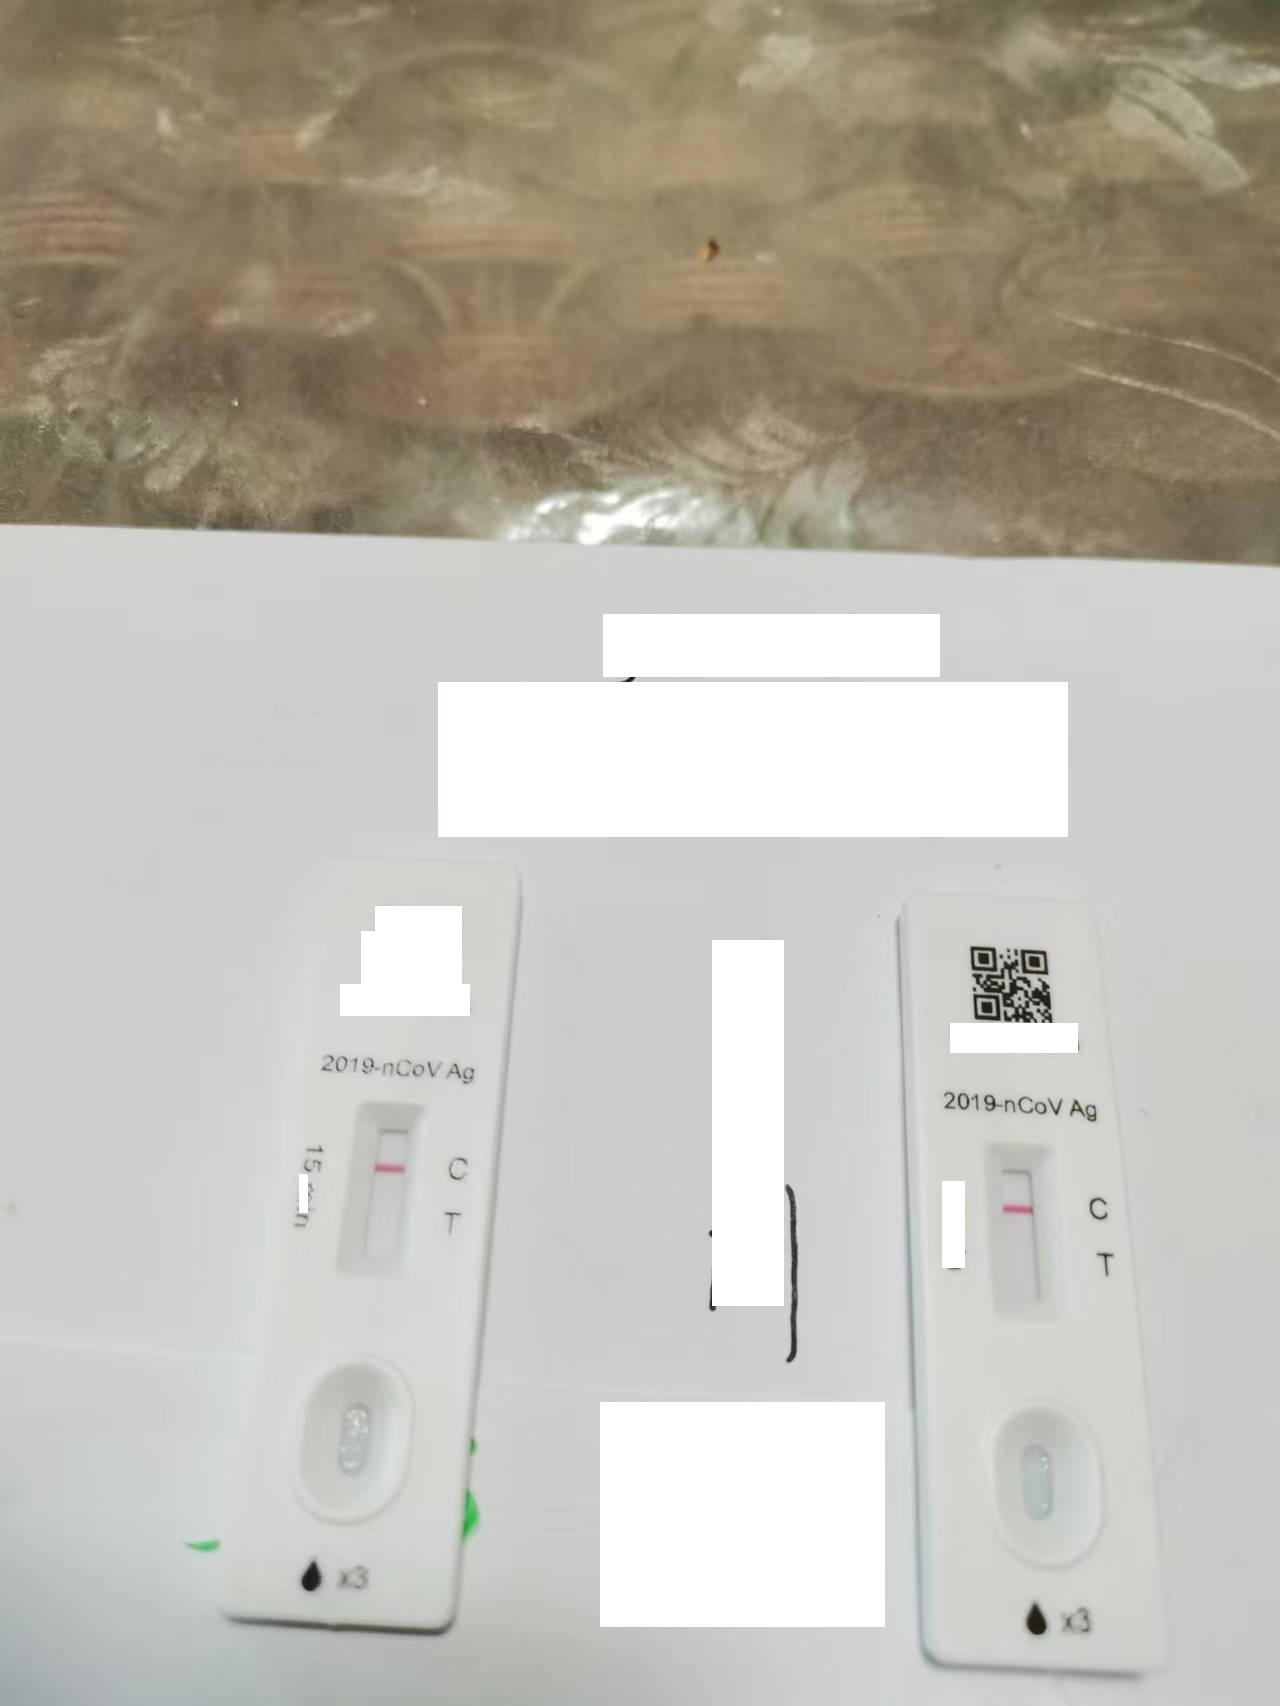negative: (336, 1102, 425, 1277), (987, 1141, 1061, 1326)
